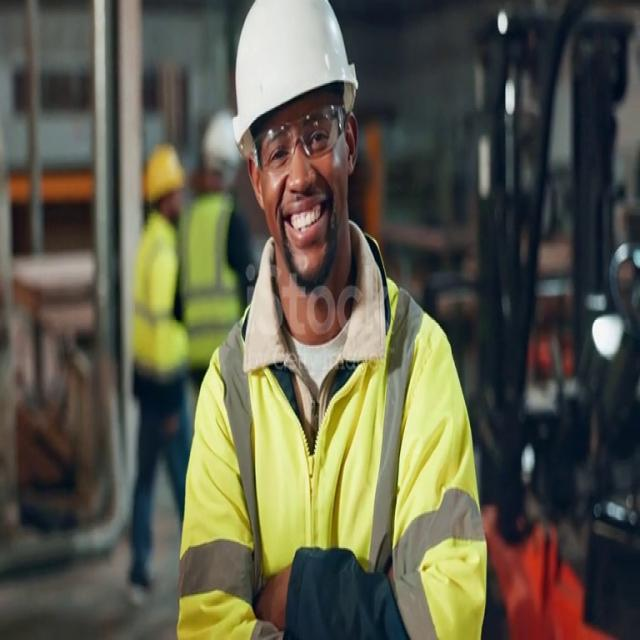capacete: (210, 2, 374, 147)
